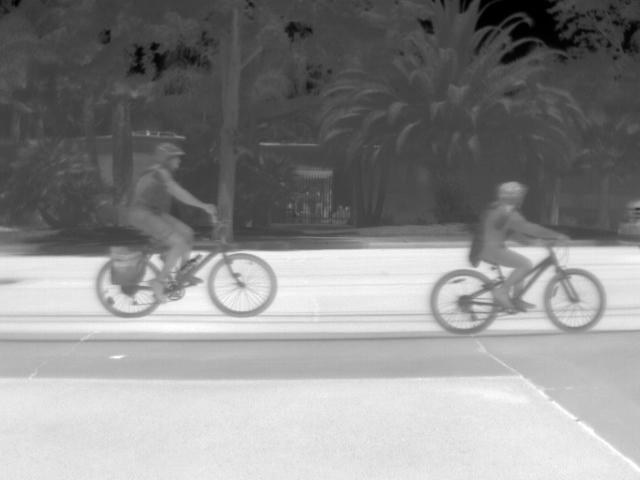car: (616, 195, 639, 243)
person: (121, 138, 220, 290), (481, 178, 574, 315)
